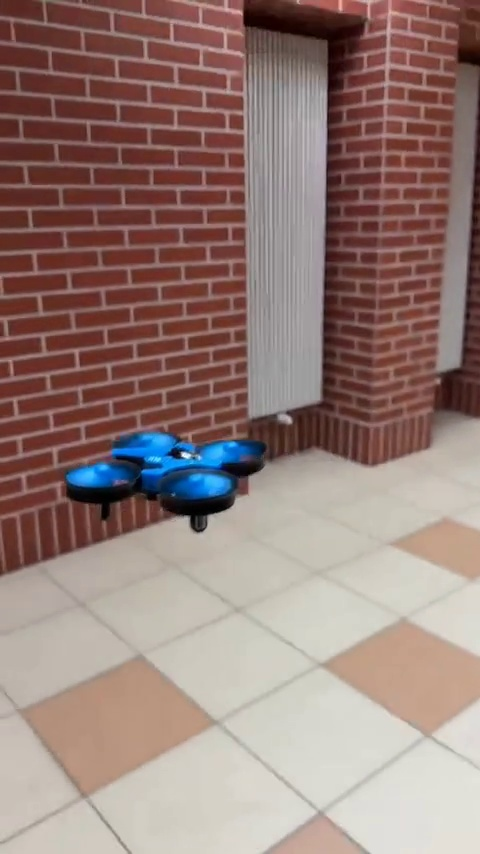drone: (65, 429, 273, 533)
